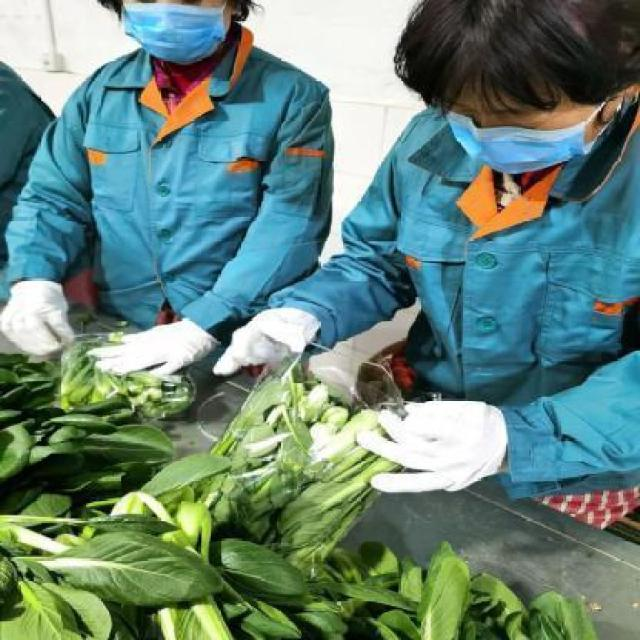face_mask: (423, 83, 602, 179), (96, 0, 230, 66)
hand_glove: (355, 402, 500, 498), (89, 320, 205, 382), (212, 316, 311, 376), (0, 283, 77, 355)
head_nohelmet: (389, 1, 640, 94)
person: (334, 0, 640, 512), (38, 4, 331, 422)
